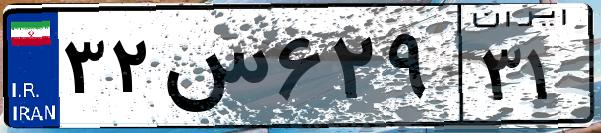1: (525, 38, 570, 115)
2: (330, 28, 385, 110), (110, 28, 158, 98)
3: (57, 26, 110, 100), (475, 38, 525, 113)
6: (270, 28, 330, 110)
9: (385, 28, 445, 110)
س: (158, 20, 270, 120)
